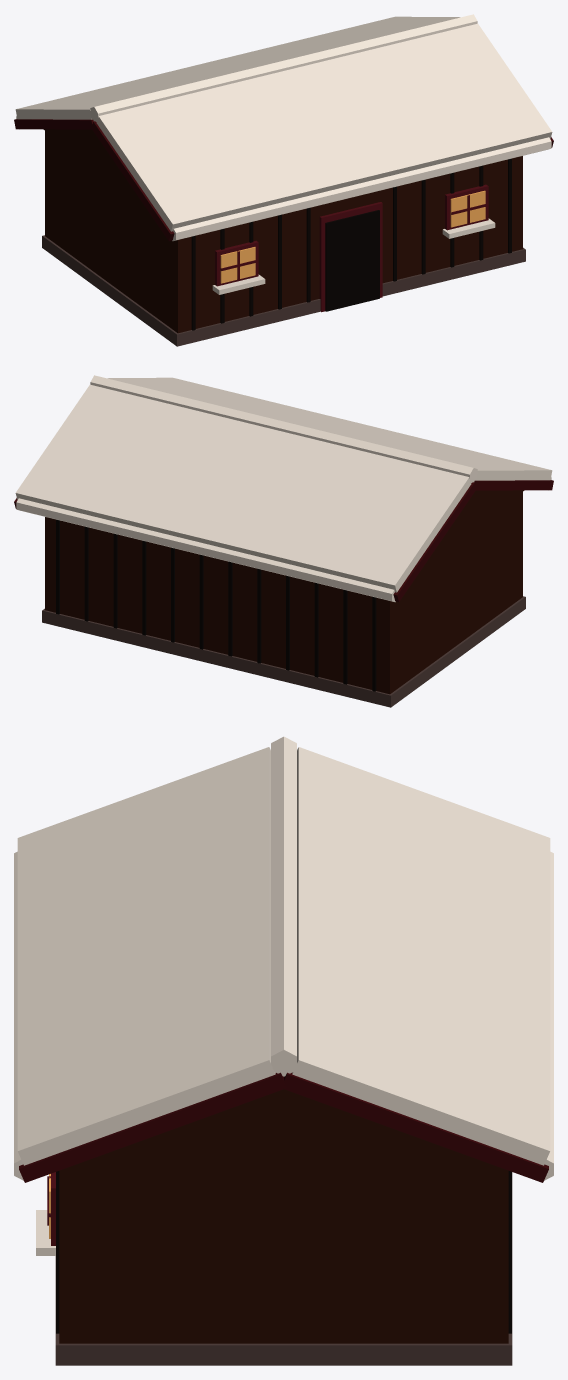
The model's file is rs_equipment.glb.
3 renders of one model, top to bottom at view 1: azimuth 30°, elevation 25°; view 2: azimuth 150°, elevation 25°; view 3: azimuth 270°, elevation 25°, orthographic. The views are drawn at different scales.
Parts seen in each view (by area): view 1: equipment; view 2: equipment; view 3: equipment.
Boxes of the visible parts, <box> form: equipment: <box>14,14,553,346</box>; equipment: <box>14,375,553,707</box>; equipment: <box>14,736,553,1365</box>.
Bounding box in the file's own units: 10 × 4.84 × 7.21.
